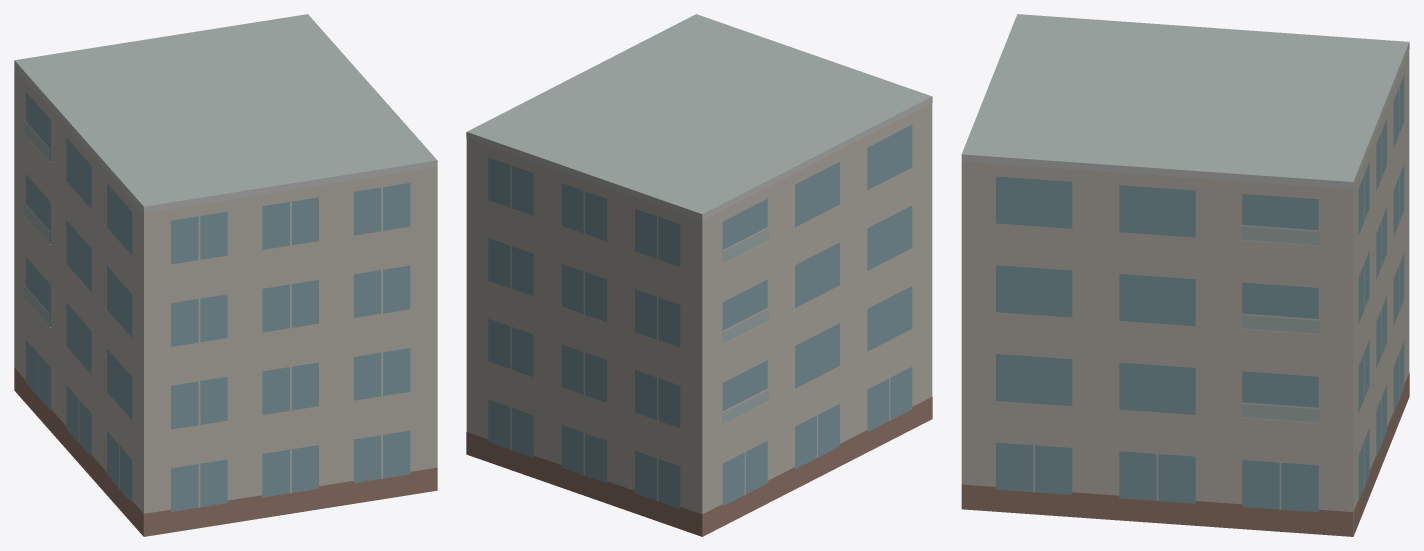
File: survey-upis-32905406.glb
The picture shows the model from 3 angles, left to right: view 1: azimuth 30°, elevation 25°; view 2: azimuth 150°, elevation 25°; view 3: azimuth 270°, elevation 25°; orthographic projection. The views are drawn at different scales.
Visible parts, largest first — view 1: survey-upis-32905406.tmp; view 2: survey-upis-32905406.tmp; view 3: survey-upis-32905406.tmp.
Part boxes in pixels (bbox=[...]): survey-upis-32905406.tmp: bbox=[14, 14, 437, 536]; survey-upis-32905406.tmp: bbox=[466, 14, 932, 536]; survey-upis-32905406.tmp: bbox=[961, 14, 1409, 536].
Size of the model in its own units: 12.4 by 12.2 by 13.97.
